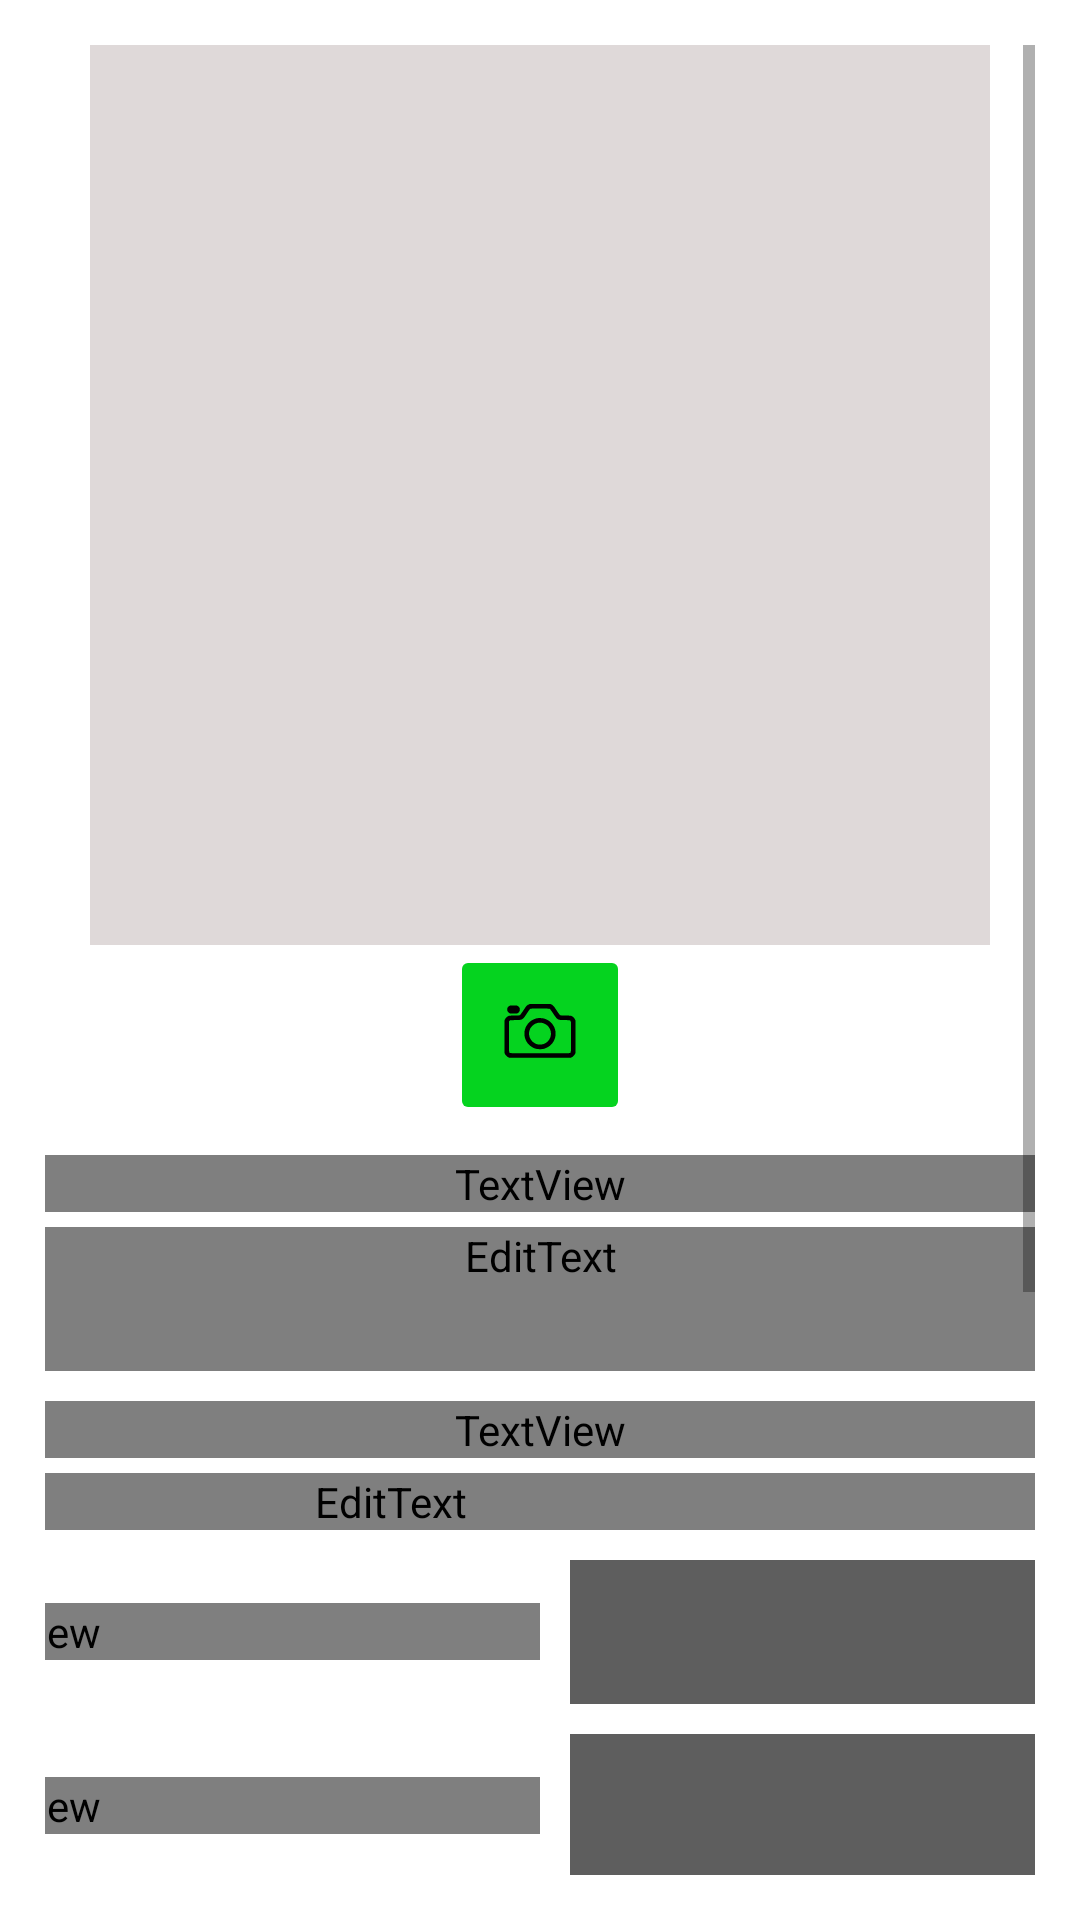

Named icons in this screenshot (1080px×1920px) and their centers, (x=x, y=y):
camera: (x=540, y=1035)
